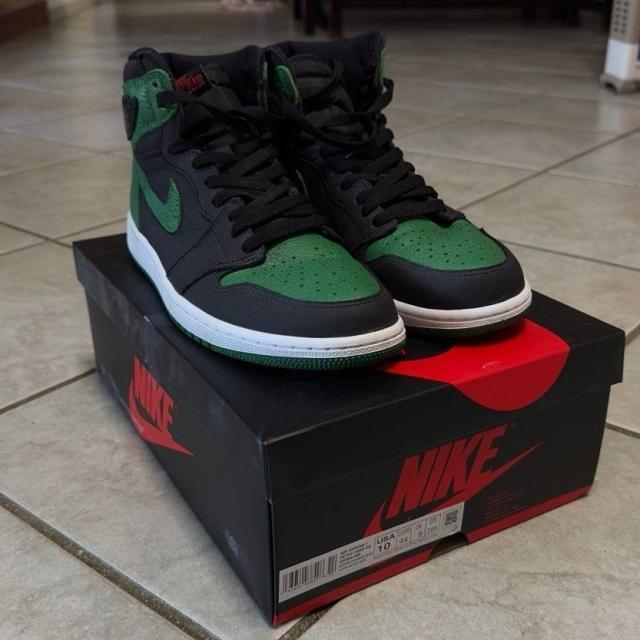nike original jordan 1: (110, 38, 412, 370), (219, 25, 538, 336)
